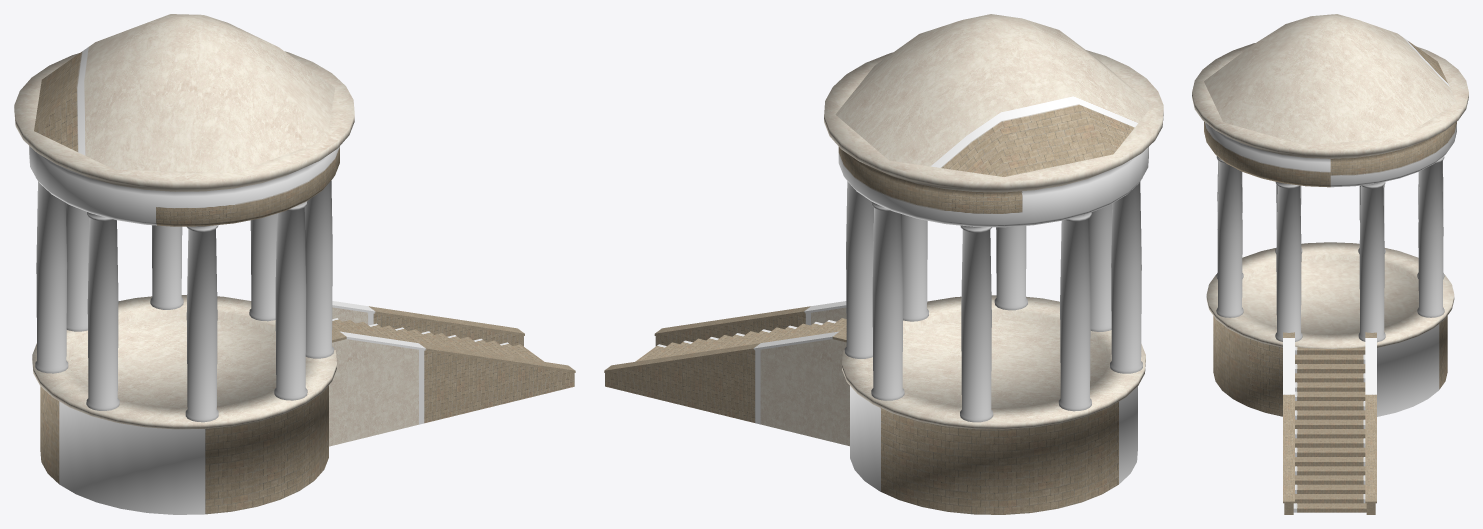
The model's file is budynek015.fbx.
3 renders of one model, left to right at view 1: azimuth 30°, elevation 25°; view 2: azimuth 150°, elevation 25°; view 3: azimuth 270°, elevation 25°, orthographic. The views are drawn at different scales.
Visible parts, largest first — view 1: Plane.000, Circle.014, Circle.009, Circle.007, Circle.012, Circle.013, Circle.010, Circle.008, Circle.011; view 2: Plane.000, Circle.010, Circle.012, Circle.011, Circle.009, Circle.008, Circle.014, Circle.013, Circle.007; view 3: Plane.000, Circle.008, Circle.013, Circle.007, Circle.011.
Boxes of the visible parts, <box> form: Plane.000: <box>14,14,575,514</box>; Circle.014: <box>185,225,218,422</box>; Circle.009: <box>86,212,119,410</box>; Circle.007: <box>274,201,307,400</box>; Circle.012: <box>35,181,68,373</box>; Circle.013: <box>304,180,333,358</box>; Circle.010: <box>66,203,89,331</box>; Circle.008: <box>249,213,276,321</box>; Circle.011: <box>150,225,183,309</box>; Plane.000: <box>604,14,1163,514</box>; Circle.010: <box>960,225,993,422</box>; Circle.012: <box>1058,212,1091,411</box>; Circle.011: <box>871,202,904,400</box>; Circle.009: <box>1110,182,1142,373</box>; Circle.008: <box>844,181,873,358</box>; Circle.014: <box>1089,204,1112,331</box>; Circle.013: <box>901,214,928,321</box>; Circle.007: <box>994,225,1027,310</box>; Plane.000: <box>1192,14,1468,514</box>; Circle.008: <box>1358,182,1385,342</box>; Circle.013: <box>1275,182,1302,341</box>; Circle.007: <box>1216,156,1243,317</box>; Circle.011: <box>1417,156,1444,317</box>.
Size of the model in its own units: 10.86 by 8.85 by 6.3.
